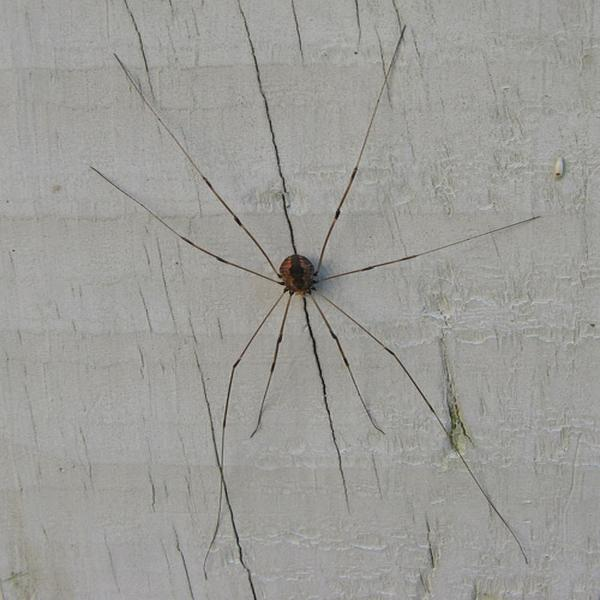Daddy Long Legs Spider: (104, 26, 539, 559)
